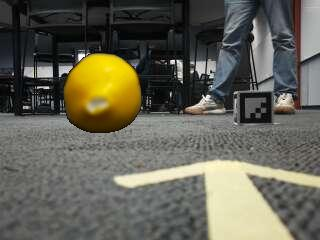lemon: (66, 55, 143, 134)
